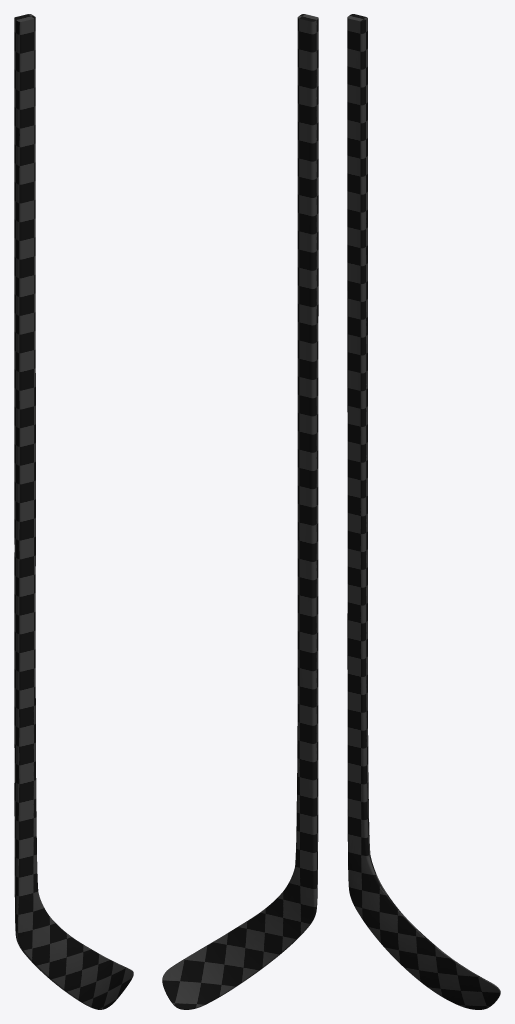
The picture shows the model from 3 angles, left to right: view 1: azimuth 30°, elevation 25°; view 2: azimuth 150°, elevation 25°; view 3: azimuth 330°, elevation 25°; orthographic projection. The views are drawn at different scales.
Parts seen in each view (by area): view 1: geometry_0; view 2: geometry_0; view 3: geometry_0.
Boxes of the visible parts, <box> form: geometry_0: <box>14,14,133,1009</box>; geometry_0: <box>162,14,318,1009</box>; geometry_0: <box>347,14,500,1009</box>.
Size of the model in its own units: 231 by 1650 by 78.82.
1 material, 1 textured.
